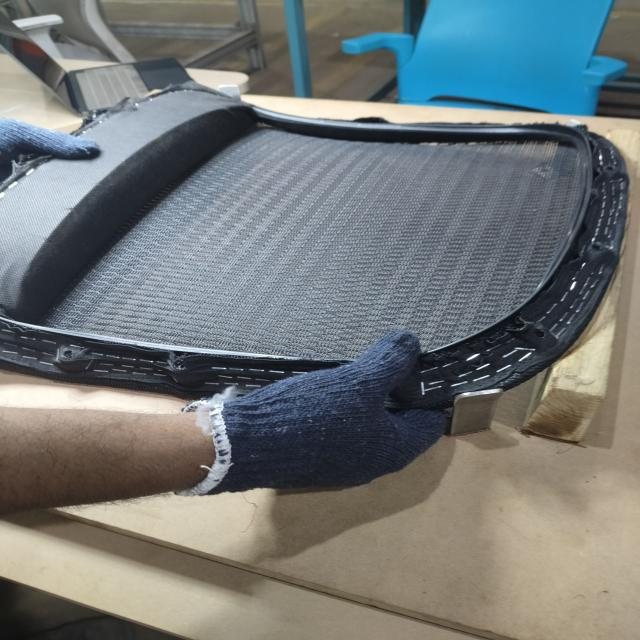Gloves-Detection: (171, 331, 443, 515), (0, 114, 122, 187)
